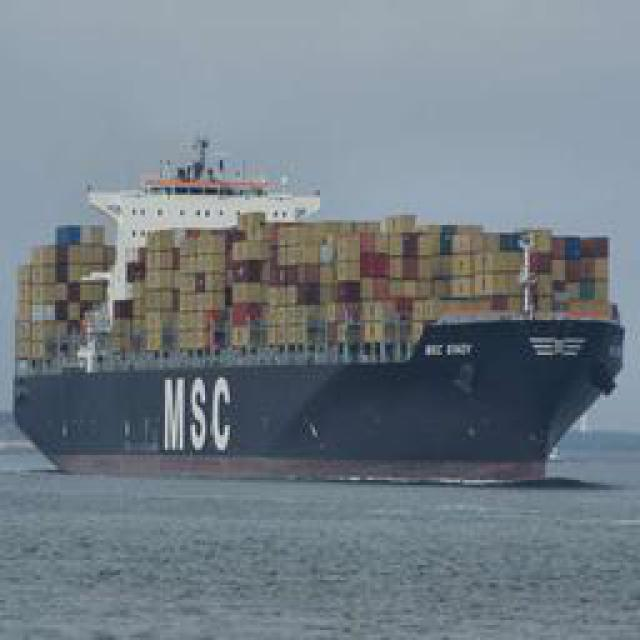Ship: (11, 155, 627, 489)
